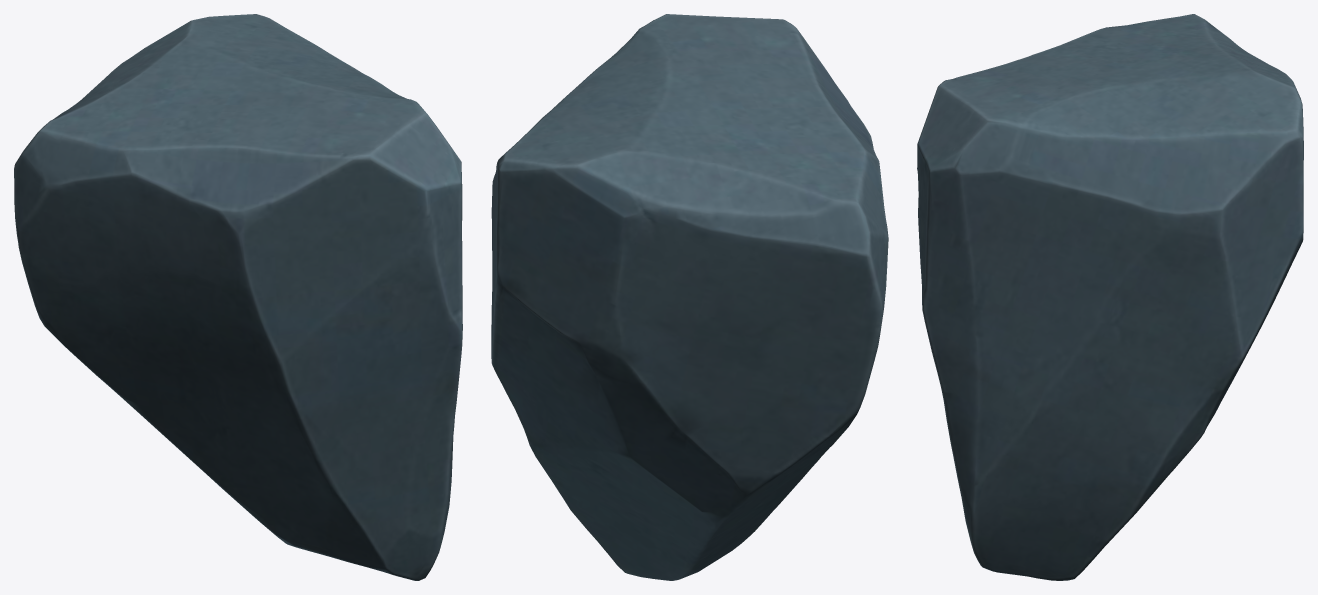
File: sky_boulder_c.glb
3 views of the same model, side by side, from view 1: azimuth 30°, elevation 25°; view 2: azimuth 150°, elevation 25°; view 3: azimuth 270°, elevation 25° (orthographic). The views are drawn at different scales.
Parts seen in each view (by area): view 1: boulder_c; view 2: boulder_c; view 3: boulder_c.
Boxes of the visible parts, x1,y1,x2,y2 form: boulder_c: (14,14,462,580); boulder_c: (491,14,888,580); boulder_c: (917,14,1303,580).
Bounding box in the file's own units: 8.41 × 11.2 × 8.42.
1 material, 1 textured.
